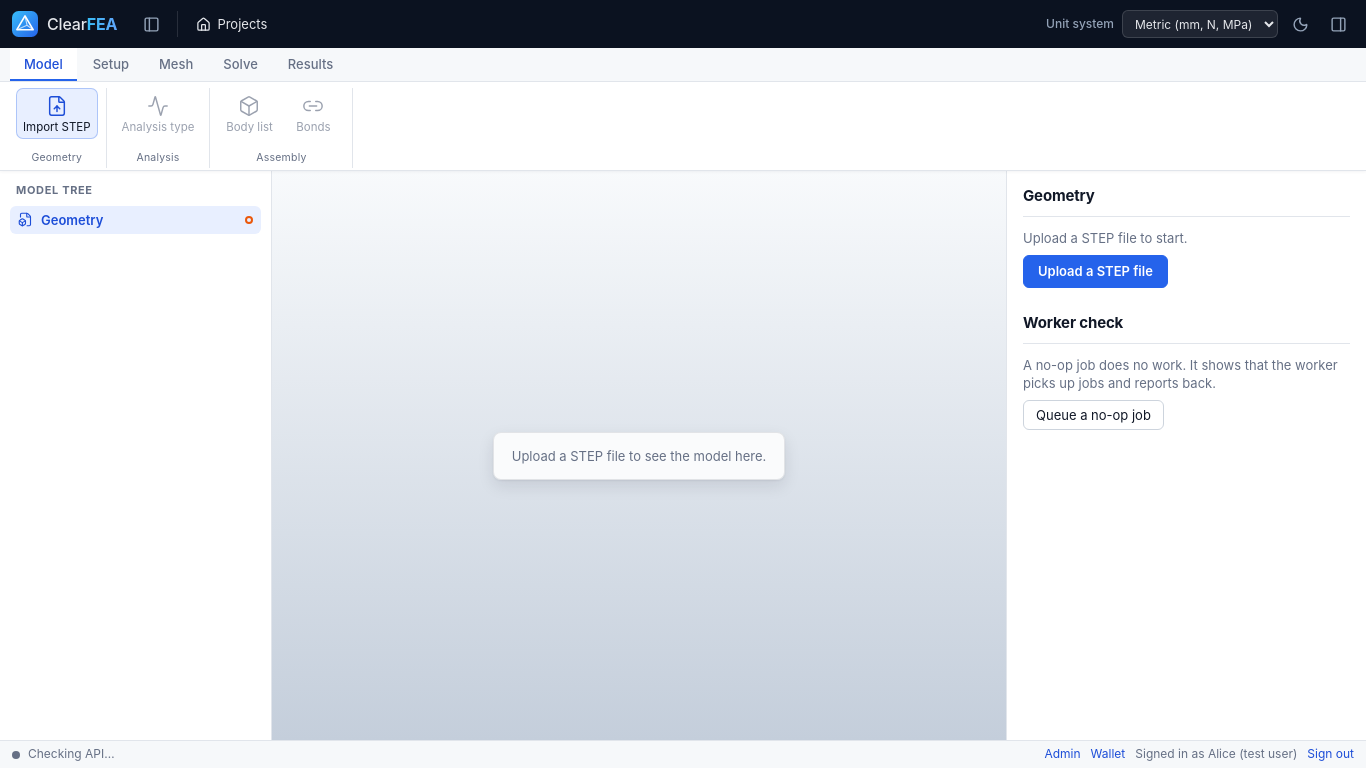
Scenario: admin Costs tab (M13.3) › shows the month's use beside the fixed costs, per hour and per run
The image size is (1366, 768).
Click the button "Admin". click: [1063, 754]
box: [1044, 746, 1081, 763]
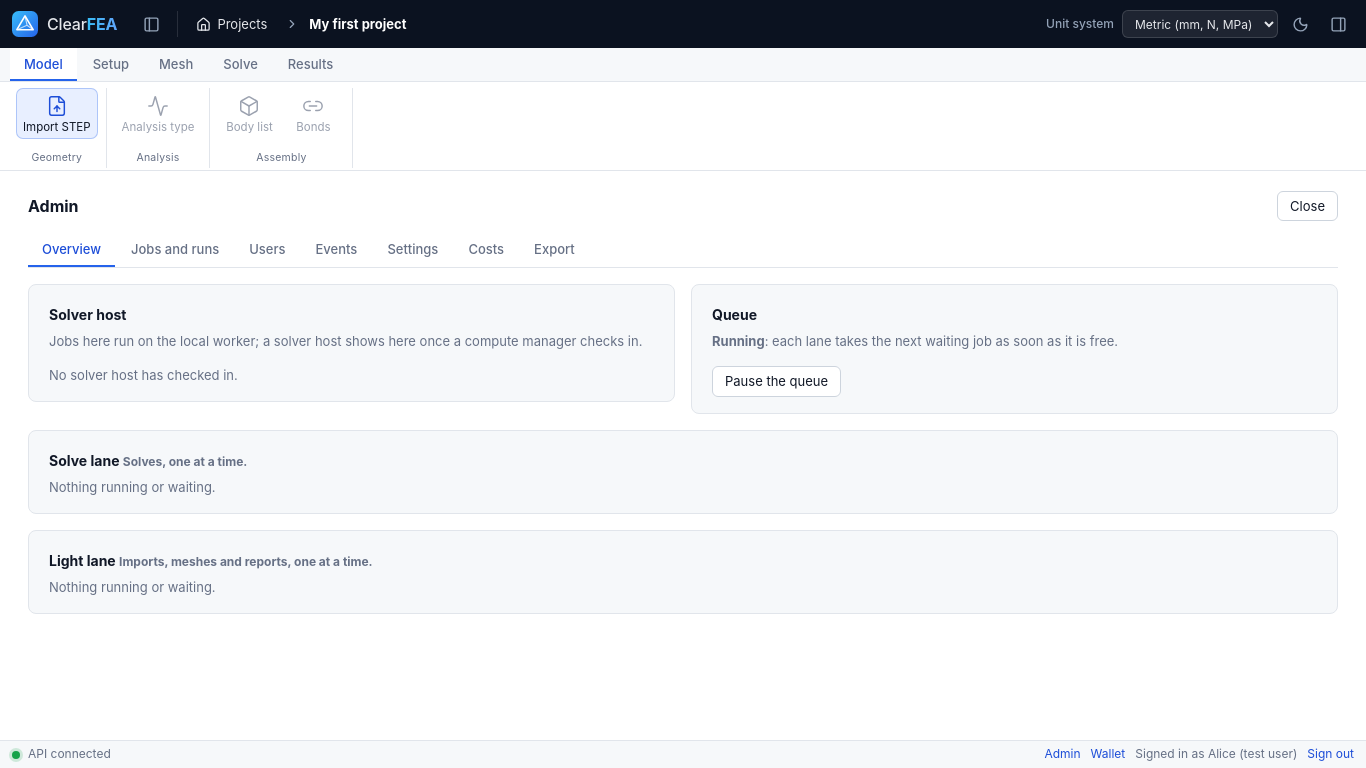
Click the tab "Costs". click: [486, 250]
box: [454, 233, 518, 267]
(page scrolled)
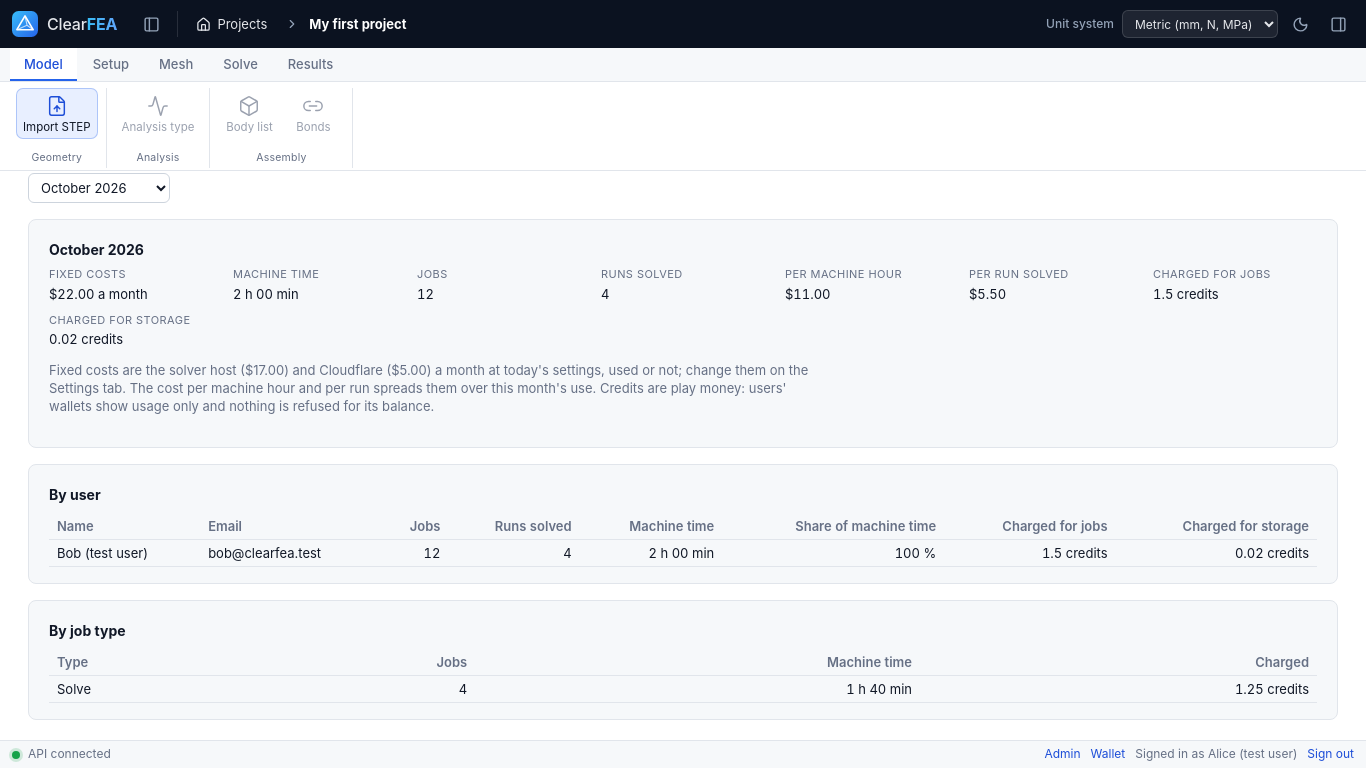
Expected: the text with test id "costs-fixed" reads "$22.00 a month", [49, 286, 148, 302]
Expected: the text "$11.00" is shown, [785, 286, 831, 302]
Expected: the text "$5.50" is shown, [969, 286, 1006, 302]
